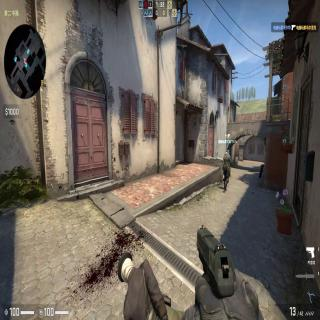CT-Body: (221, 150, 232, 190)
CT-Head: (226, 149, 230, 155)
